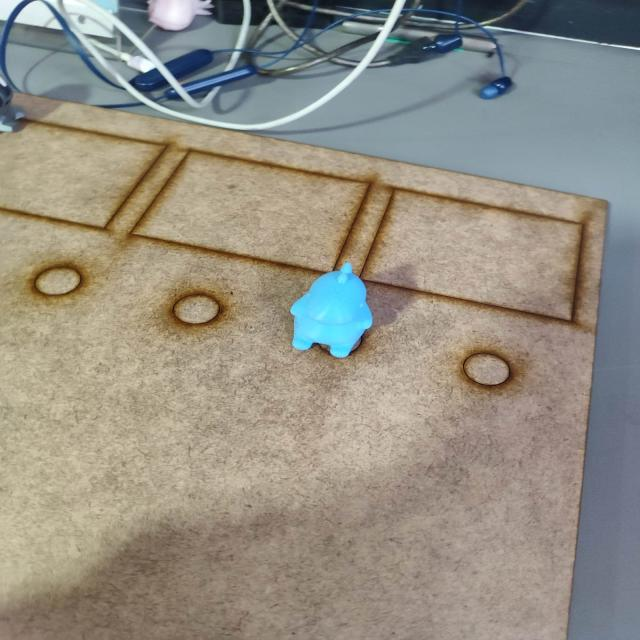DINO: (281, 258, 386, 362)
